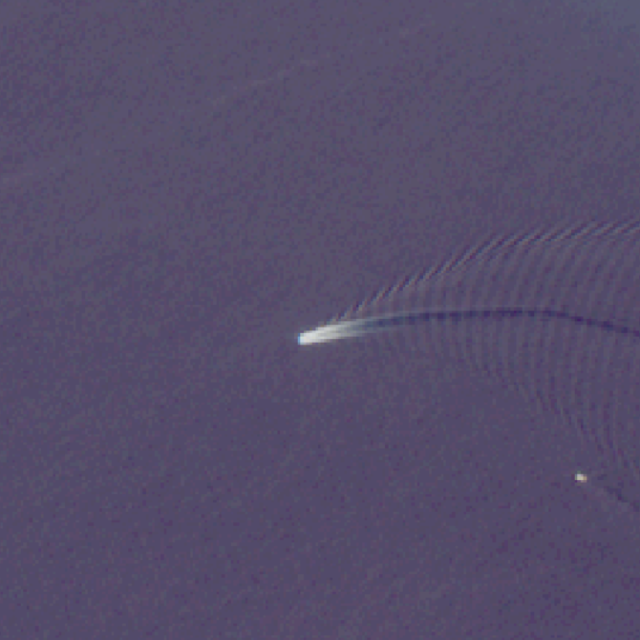wake: (275, 230, 594, 406)
